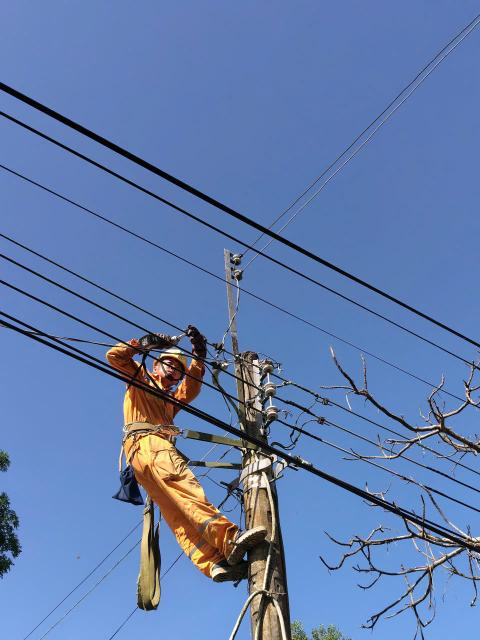gloves: (184, 325, 214, 361)
harness: (121, 420, 267, 468)
helmet: (154, 341, 195, 377)
shoes: (218, 521, 274, 560), (200, 555, 270, 585)
